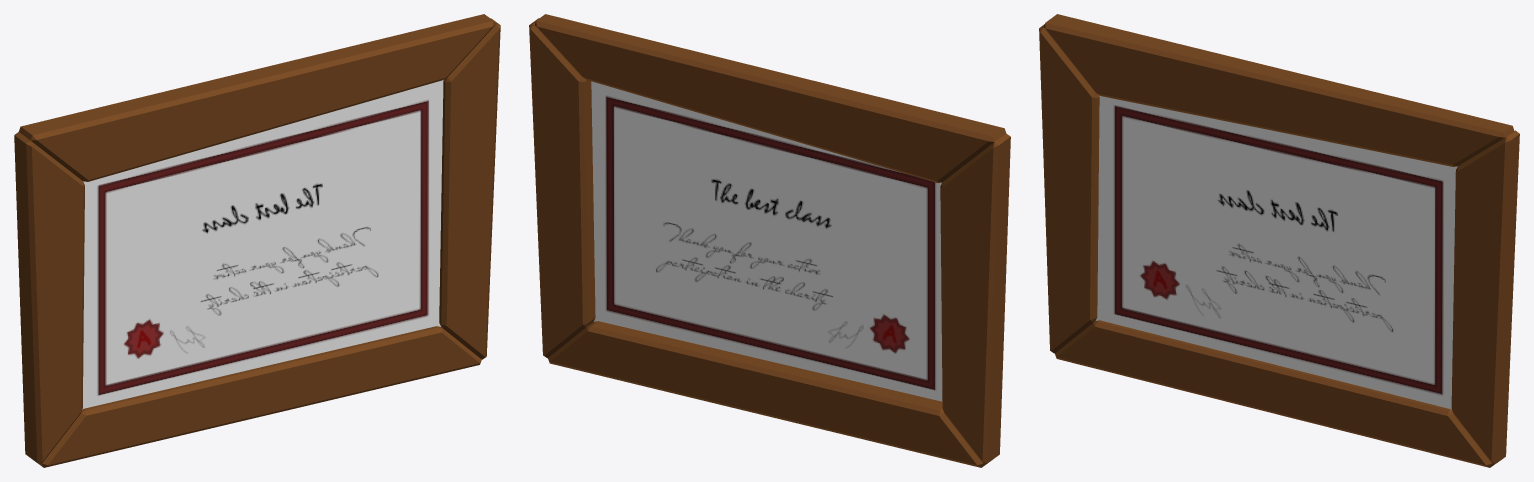
File: Picture2.fbx
The picture shows the model from 3 angles, left to right: view 1: azimuth 30°, elevation 25°; view 2: azimuth 150°, elevation 25°; view 3: azimuth 330°, elevation 25°; orthographic projection.
Visible parts, largest first — view 1: Picture2; view 2: Picture2; view 3: Picture2.
Boxes of the visible parts, x1,y1,x2,y2 form: Picture2: [14, 14, 500, 467]; Picture2: [529, 14, 1010, 467]; Picture2: [1039, 14, 1519, 467].
Size of the model in its own units: 0.5723 by 0.3928 by 0.0335.
